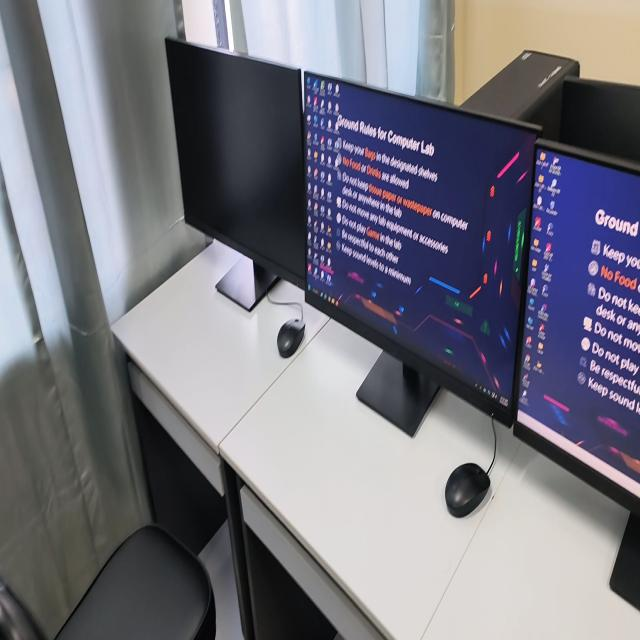Chair: (56, 524, 216, 639)
Monitor: (304, 72, 538, 415), (517, 140, 640, 498), (165, 39, 306, 289)
Mouse: (445, 463, 490, 517), (277, 318, 305, 358)
